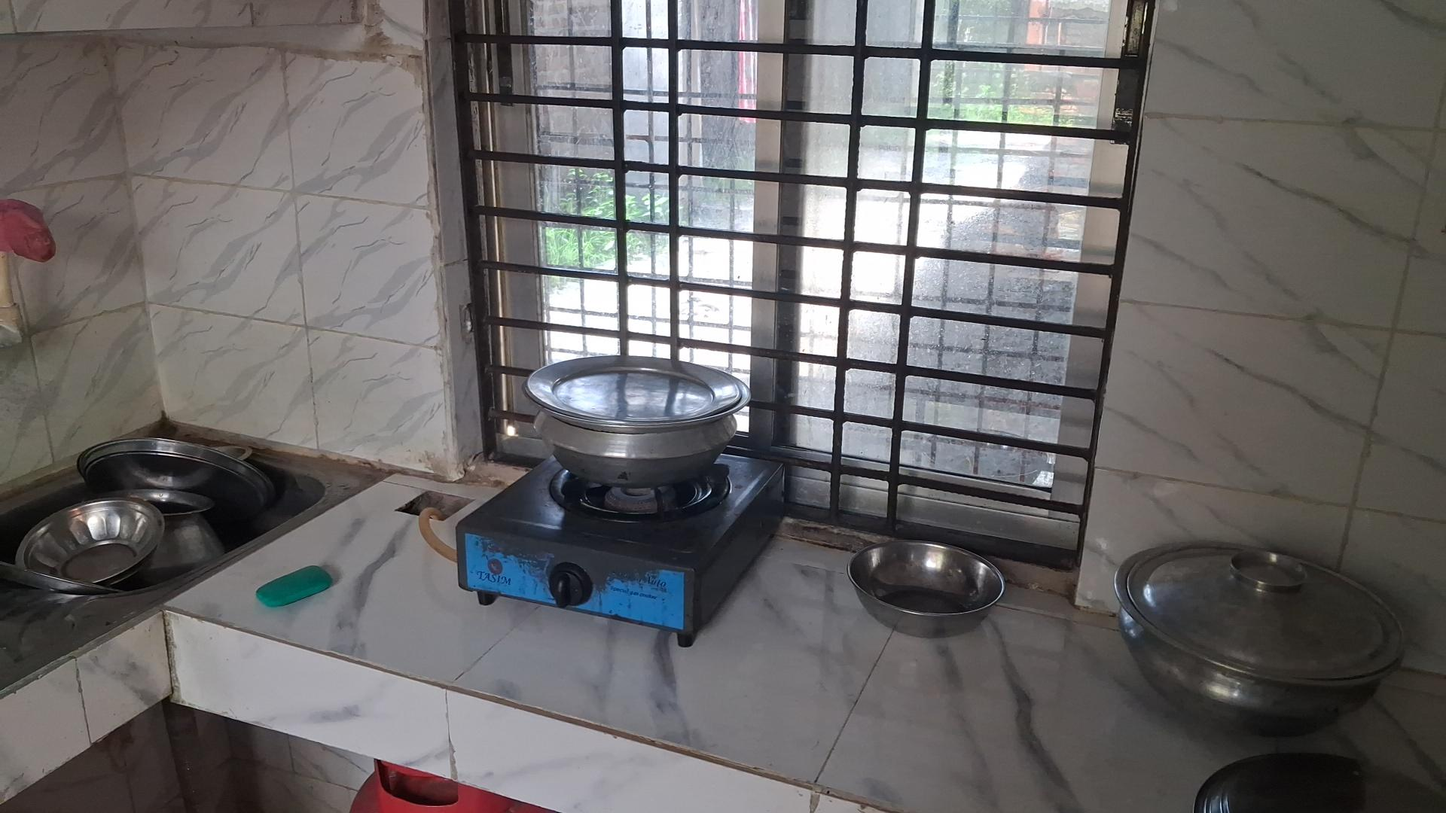Bowl: (847, 540, 1006, 639), (15, 495, 164, 588)
Pot: (1109, 534, 1407, 734), (522, 349, 742, 494)
Soap: (258, 563, 335, 610)
Window: (452, 5, 1146, 585)
